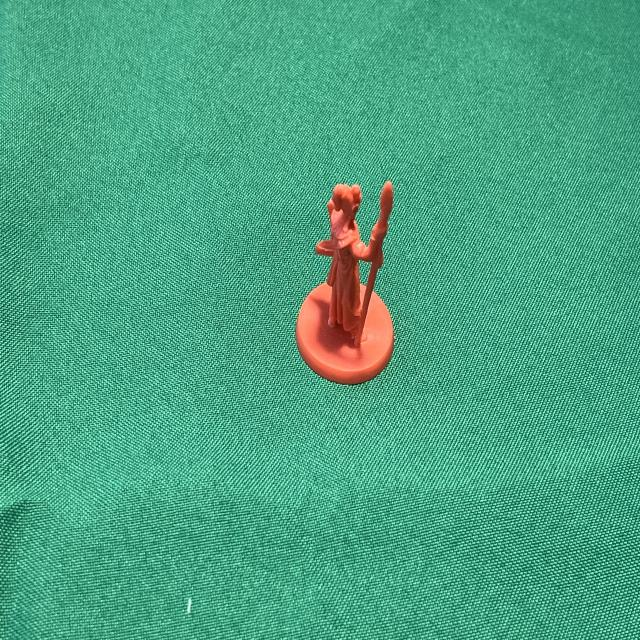amon_follower: (296, 183, 394, 385)
